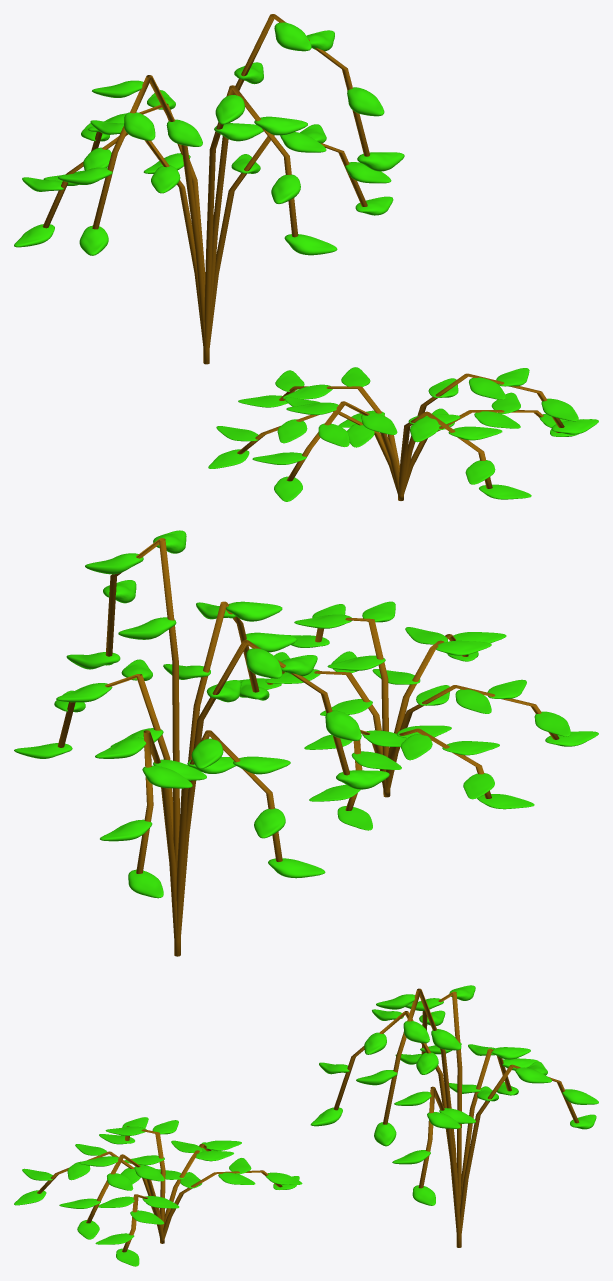
Rendered from plantas.fbx.
3 renders of one model, top to bottom at view 1: azimuth 30°, elevation 25°; view 2: azimuth 150°, elevation 25°; view 3: azimuth 270°, elevation 25°, orthographic. The views are drawn at different scales.
Visible parts, largest first — view 1: Cylinder.014, Cylinder.006; view 2: Cylinder.014, Cylinder.006; view 3: Cylinder.014, Cylinder.006.
Boxes of the visible parts, <box> form: Cylinder.014: <box>14,14,404,364</box>; Cylinder.006: <box>208,367,598,501</box>; Cylinder.014: <box>14,530,389,956</box>; Cylinder.006: <box>239,601,598,830</box>; Cylinder.014: <box>310,985,598,1247</box>; Cylinder.006: <box>14,1117,302,1266</box>.
Bounding box in the file's own units: 427 × 438 × 852.
